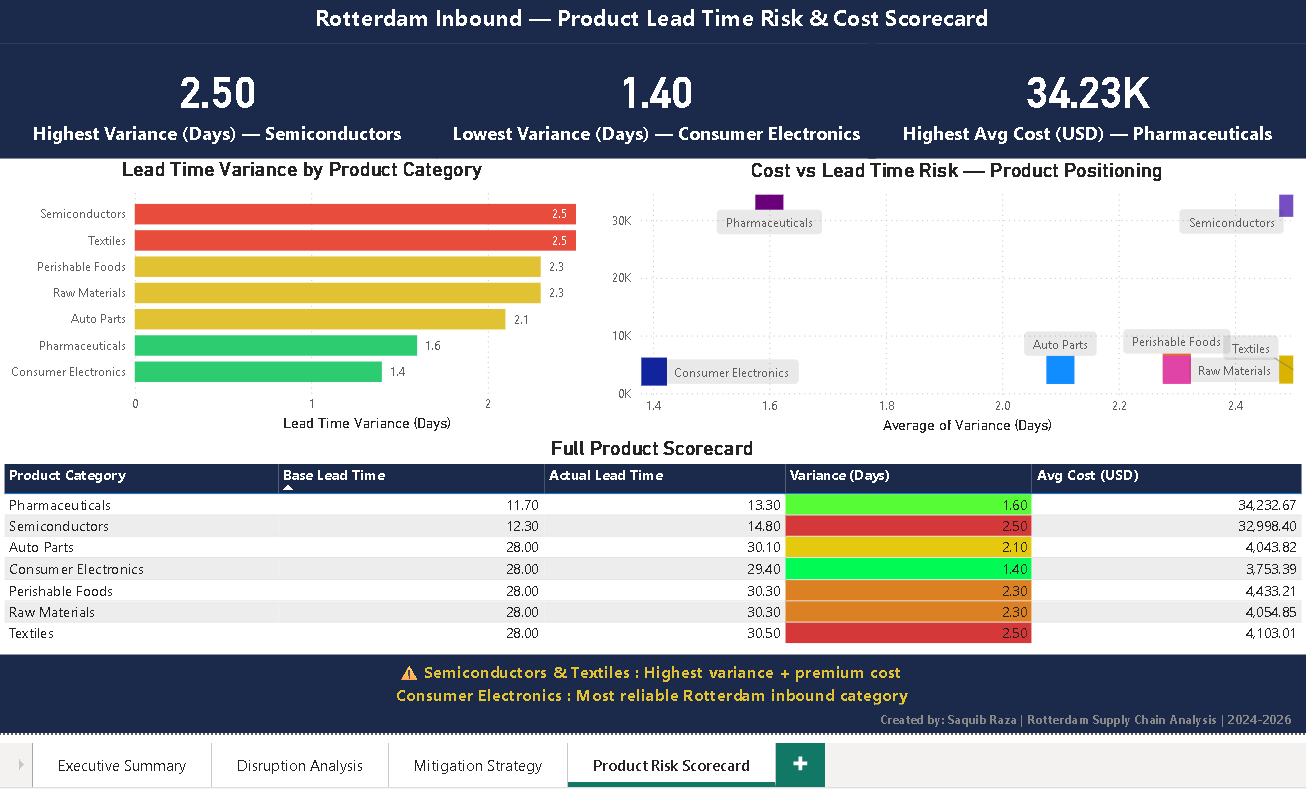

The page's visual inventory and layout, read from the dashboard file:
{"tool":"powerbi","page":{"name":"Product Risk Scorecard","canvas":[1280,720],"ordinal":3},"visuals":[{"type":"clusteredBarChart","title":"Lead Time Variance by Product Category","fields":{"Category":["product_leadtime.Product_Category"],"Y":["Avg(product_leadtime.Variance_Days)"]},"box":[0,157.7,595.5,272.7],"z":0},{"type":"textbox","box":[0,0,1280.3,45.2],"z":1000},{"type":"scatterChart","title":"Cost vs Lead Time Risk — Product Positioning","fields":{"X":["Avg(product_leadtime.Variance_Days)"],"Y":["Avg(product_leadtime.Avg_Cost_USD)"],"Category":["product_leadtime.Product_Category"],"Series":["product_leadtime.Product_Category"]},"box":[595.5,159,684.8,272.7],"z":2000},{"type":"tableEx","title":"Full Product Scorecard","fields":{"Values":["product_leadtime.Product_Category","Sum(product_leadtime.Avg_Base)","Sum(product_leadtime.Avg_Actual)","Sum(product_leadtime.Variance_Days)","Sum(product_leadtime.Avg_Cost_USD)"]},"box":[0,430.4,1280.3,212.8],"z":3000},{"type":"card","fields":{"Values":["Avg(product_leadtime.Variance_Days)"]},"box":[0,45.3,429.5,112.5],"z":4000},{"type":"card","fields":{"Values":["Avg(product_leadtime.Variance_Days)"]},"box":[429.5,45.3,429.5,112.5],"z":5000},{"type":"card","fields":{"Values":["Sum(product_leadtime.Avg_Cost_USD)"]},"box":[850.8,45.3,429.5,112.5],"z":6000},{"type":"textbox","box":[0,643.2,1280.3,77],"z":7000},{"type":"textbox","box":[858.4,692.1,421.9,28.1],"z":8000}]}

Visuals, with their boxes on the page's 1280x720 design canvas (x1, y1, x2, y2). These are canvas units, not pixel positions in the 1306x789 screenshot, which may show the page scaled, cropped or inside an application window:
"Lead Time Variance by Product Category" clusteredBarChart: x1=0, y1=158, x2=596, y2=430
textbox: x1=0, y1=0, x2=1280, y2=45
"Cost vs Lead Time Risk — Product Positioning" scatterChart: x1=596, y1=159, x2=1280, y2=432
"Full Product Scorecard" tableEx: x1=0, y1=430, x2=1280, y2=643
card - Avg(product_leadtime.Variance_Days): x1=0, y1=45, x2=430, y2=158
card - Avg(product_leadtime.Variance_Days): x1=430, y1=45, x2=859, y2=158
card - Sum(product_leadtime.Avg_Cost_USD): x1=851, y1=45, x2=1280, y2=158
textbox: x1=0, y1=643, x2=1280, y2=720
textbox: x1=858, y1=692, x2=1280, y2=720
